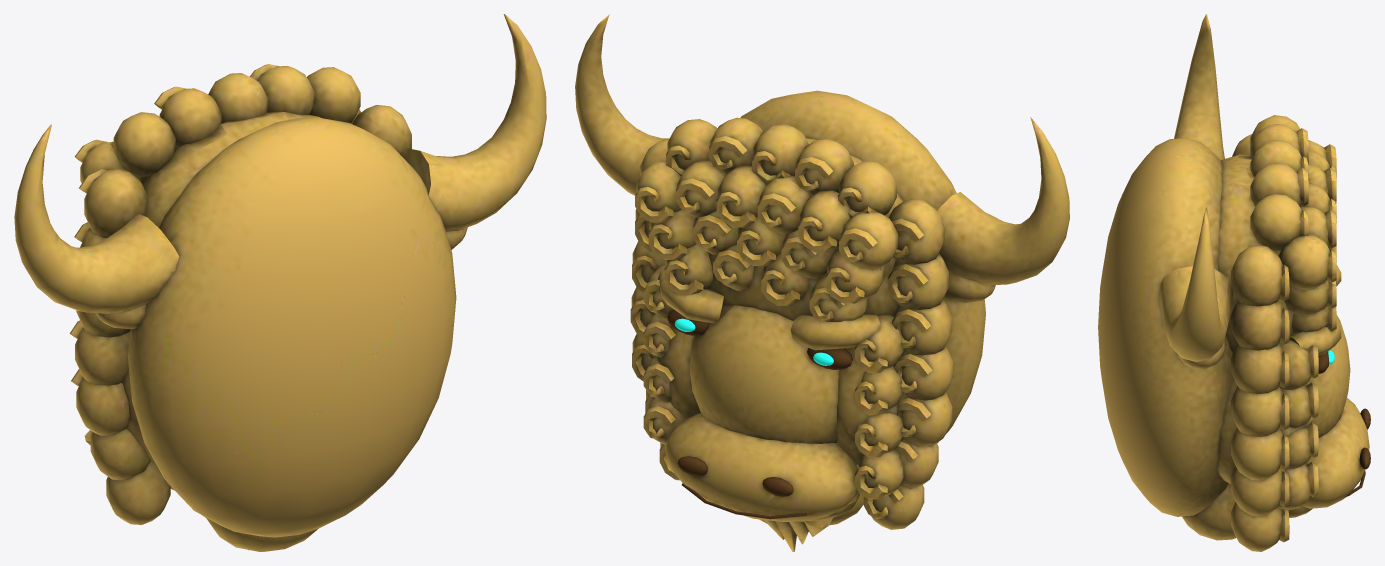
3 views of the same model, side by side, from view 1: azimuth 30°, elevation 25°; view 2: azimuth 150°, elevation 25°; view 3: azimuth 270°, elevation 25° (orthographic). The views are drawn at different scales.
Parts seen in each view (by area): view 1: anim_Sculpted_gold_0; view 2: anim_Sculpted_gold_0, Gold_recess; view 3: anim_Sculpted_gold_0, Gold_recess.
Part boxes in pixels (box(x1,y1,x2,y2)): anim_Sculpted_gold_0: box(14, 14, 546, 551); anim_Sculpted_gold_0: box(575, 14, 1069, 551); Gold_recess: box(667, 309, 852, 519); anim_Sculpted_gold_0: box(1098, 14, 1369, 551); Gold_recess: box(1318, 351, 1370, 496).
Size of the model in its own units: 0.9134 by 0.831 by 0.4682.
3 materials, 2 textured.
